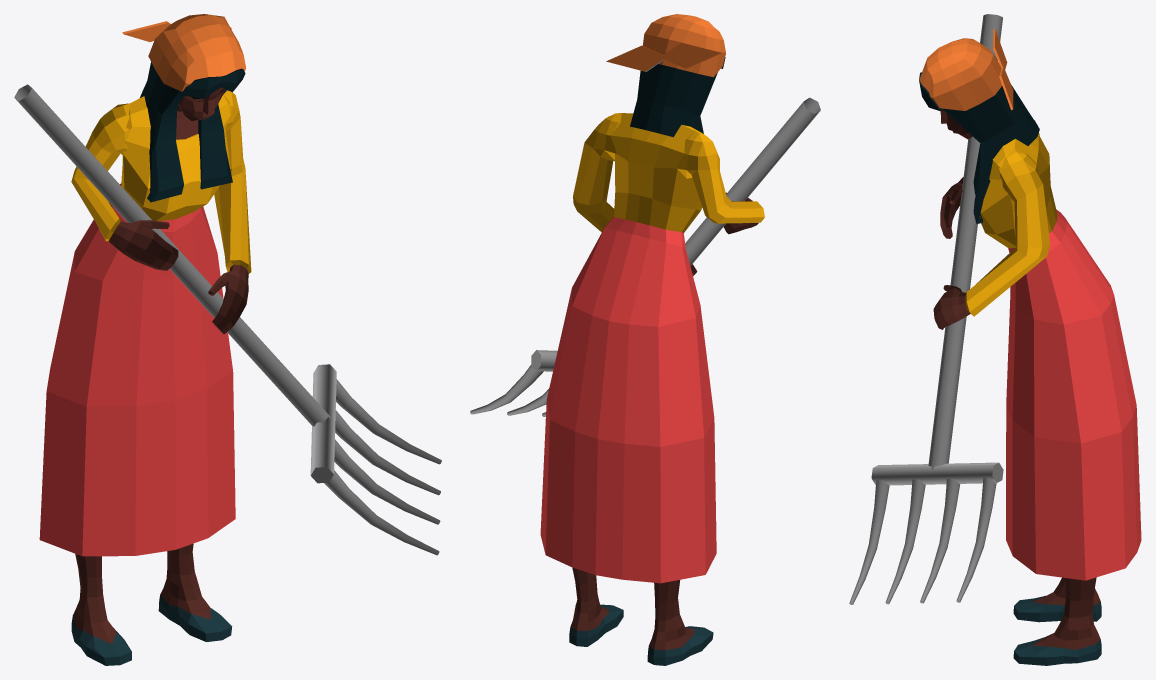
The model's file is Female_pose_04.FBX.
3 views of the same model, side by side, from view 1: azimuth 30°, elevation 25°; view 2: azimuth 150°, elevation 25°; view 3: azimuth 270°, elevation 25° (orthographic). The views are drawn at different scales.
Parts seen in each view (by area): view 1: Female_pose_04; view 2: Female_pose_04; view 3: Female_pose_04.
Boxes of the visible parts, box(x1,y1,x2,y2) form: Female_pose_04: box(14, 14, 441, 665); Female_pose_04: box(470, 14, 820, 665); Female_pose_04: box(849, 14, 1141, 665).
Bounding box in the file's own units: 1.06 × 1.63 × 0.7293.
Materials: 1 (1 with a texture image).
